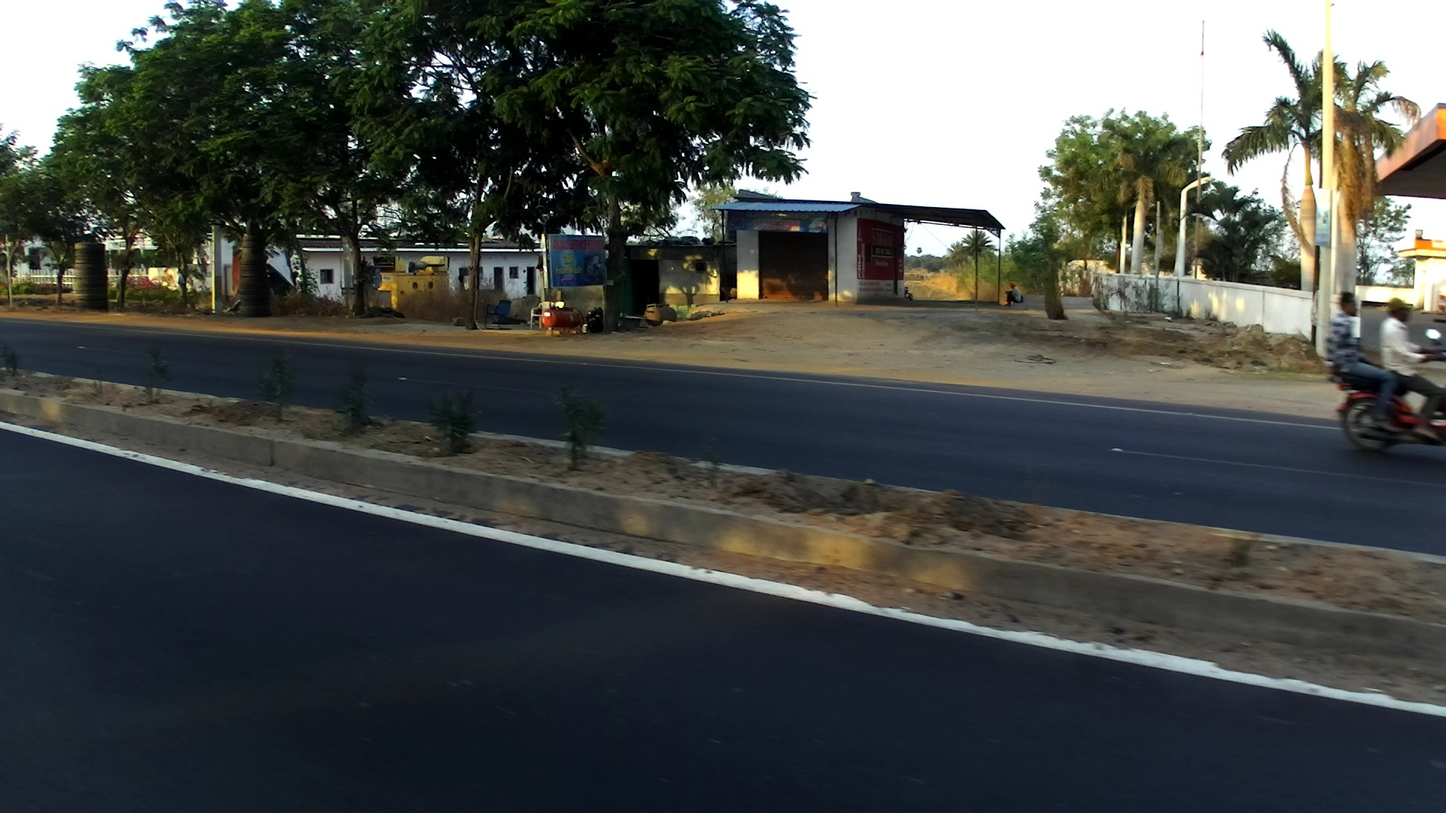motorcycle: (1334, 328, 1444, 453)
person: (1003, 281, 1026, 310)
rider: (1322, 288, 1406, 436), (1381, 295, 1442, 439)
